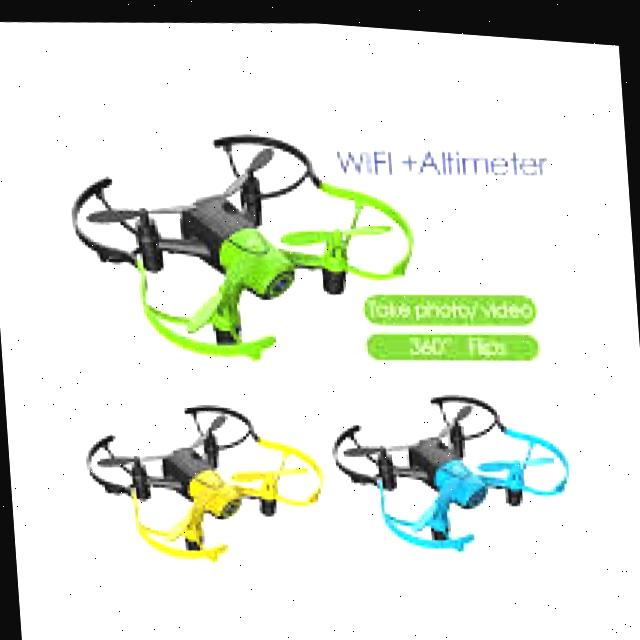drone: (46, 94, 430, 370), (67, 361, 330, 585), (330, 375, 586, 564)
